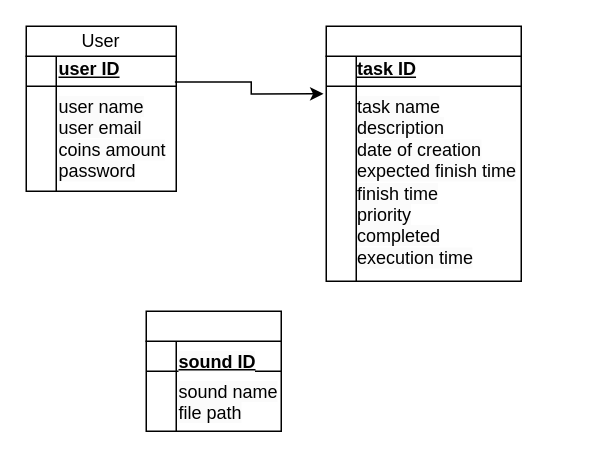
The diagram is 591 pixels wide and 473 high, and some of its shapes have lost their labels. Each missing label, with the box of its shape:
Sound: (145, 310, 281, 341)
Task: (325, 25, 521, 56)
